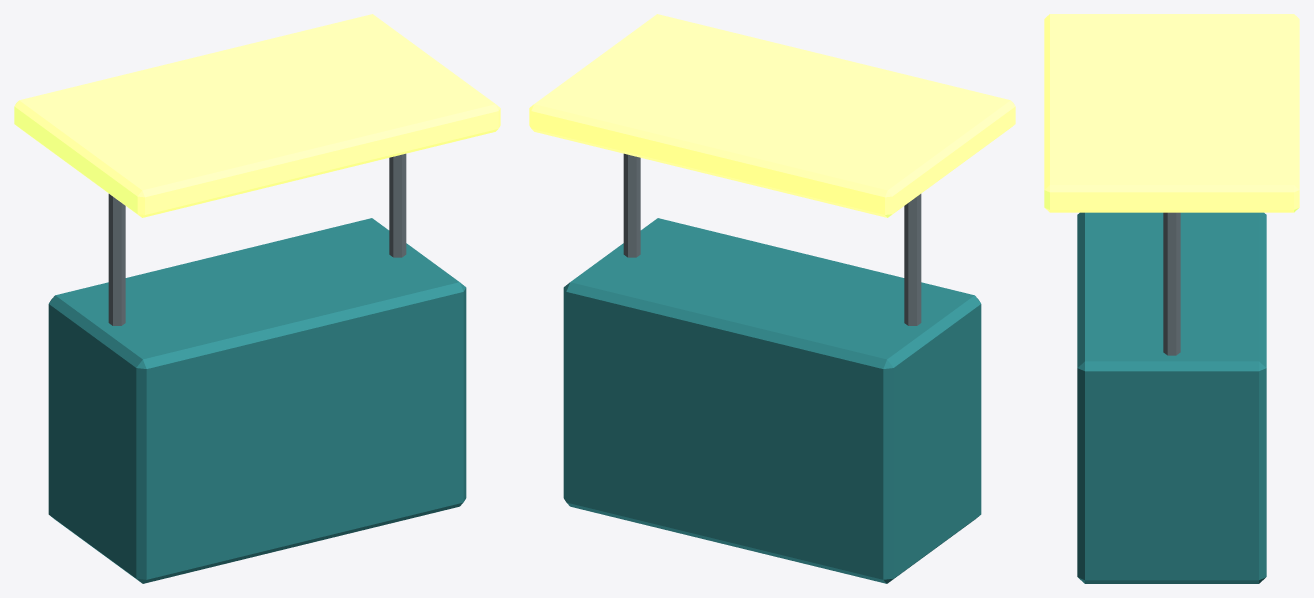
The model's file is street_001_seed11.glb.
The picture shows the model from 3 angles, left to right: view 1: azimuth 30°, elevation 25°; view 2: azimuth 150°, elevation 25°; view 3: azimuth 270°, elevation 25°; orthographic projection.
Visible parts, largest first — view 1: street_001_seed11; view 2: street_001_seed11; view 3: street_001_seed11.
Boxes of the visible parts, x1,y1,x2,y2 form: street_001_seed11: (14, 14, 500, 583); street_001_seed11: (529, 14, 1015, 583); street_001_seed11: (1044, 14, 1299, 583).
Size of the model in its own units: 2.2 by 2.38 by 1.35.
